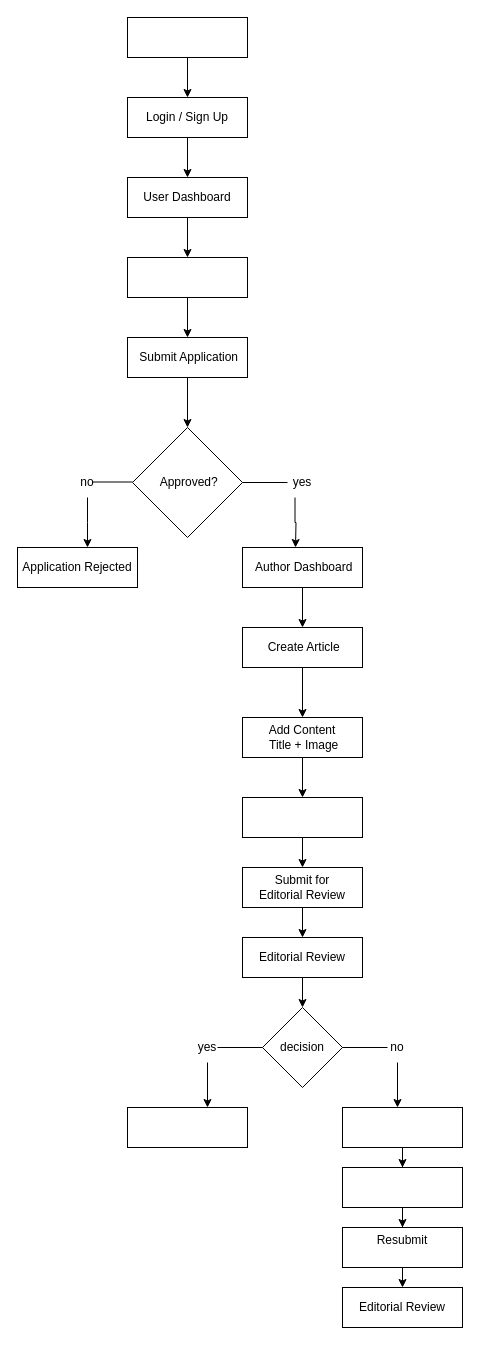
The diagram is 480 pixels wide and 1345 high, and some of its shapes have lost their labels. The shapes that lost their labels are listed below. From the top down, each one's centre as x and y in pixels, then its label:
At point (187, 37): "Landing Page".
At point (187, 277): "Apply to Become Author".
At point (302, 817): "Save Draft".
At point (187, 1127): "Published".
At point (402, 1127): "Changes Requested".
At point (402, 1187): "Edit Article".
